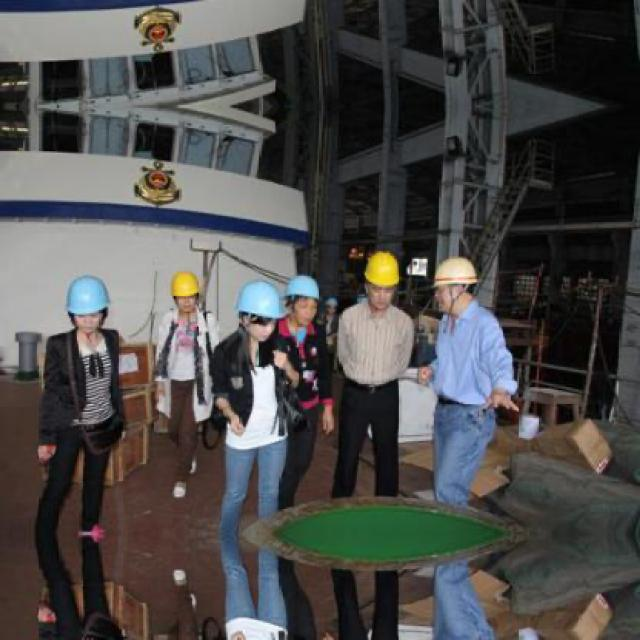helmet: (63, 271, 112, 338), (233, 281, 284, 344), (429, 253, 482, 313), (362, 248, 404, 308), (284, 273, 324, 327), (168, 266, 203, 318)
